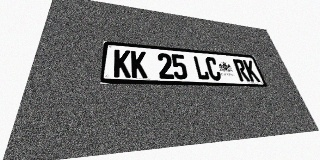2: (157, 53, 174, 79)
5: (171, 54, 188, 80)
C: (204, 57, 222, 81)
K: (113, 49, 131, 78), (131, 51, 148, 78), (242, 60, 260, 82)
L: (192, 56, 210, 80)
R: (232, 59, 250, 81)
